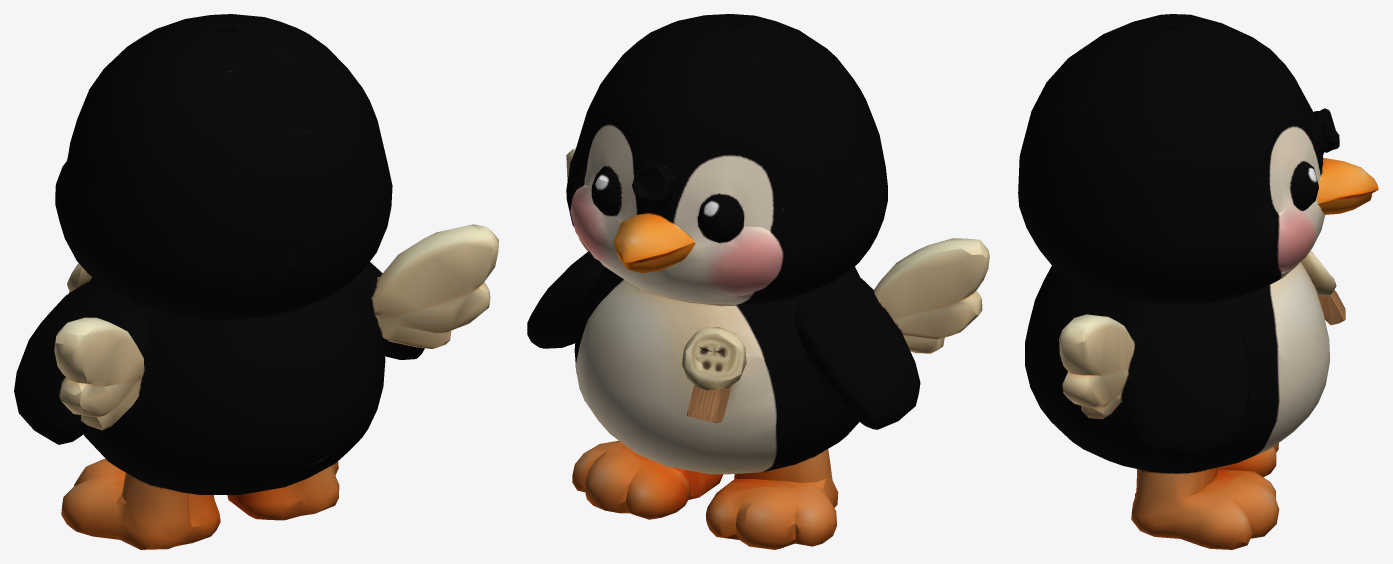
The model's file is penguin_lo.glb.
The picture shows the model from 3 angles, left to right: view 1: azimuth 30°, elevation 25°; view 2: azimuth 150°, elevation 25°; view 3: azimuth 270°, elevation 25°; orthographic projection. The views are drawn at different scales.
Visible parts, largest first — view 1: Pet; view 2: Pet; view 3: Pet.
Part boxes in pixels (left/top/right/bottom): Pet: left=14, top=14, right=498, bottom=549; Pet: left=527, top=14, right=989, bottom=549; Pet: left=1018, top=14, right=1378, bottom=549.
Size of the model in its own units: 0.9354 by 1 by 0.7037.
Materials: 1 (1 with a texture image).
